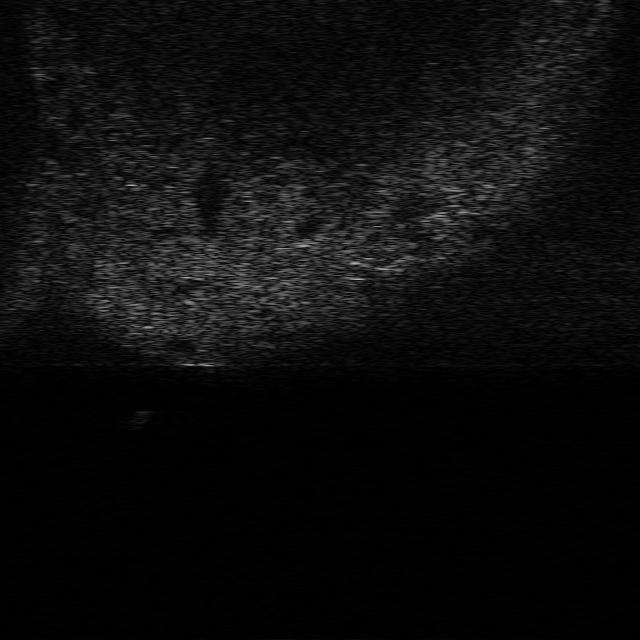cylinder: (121, 405, 151, 433)
